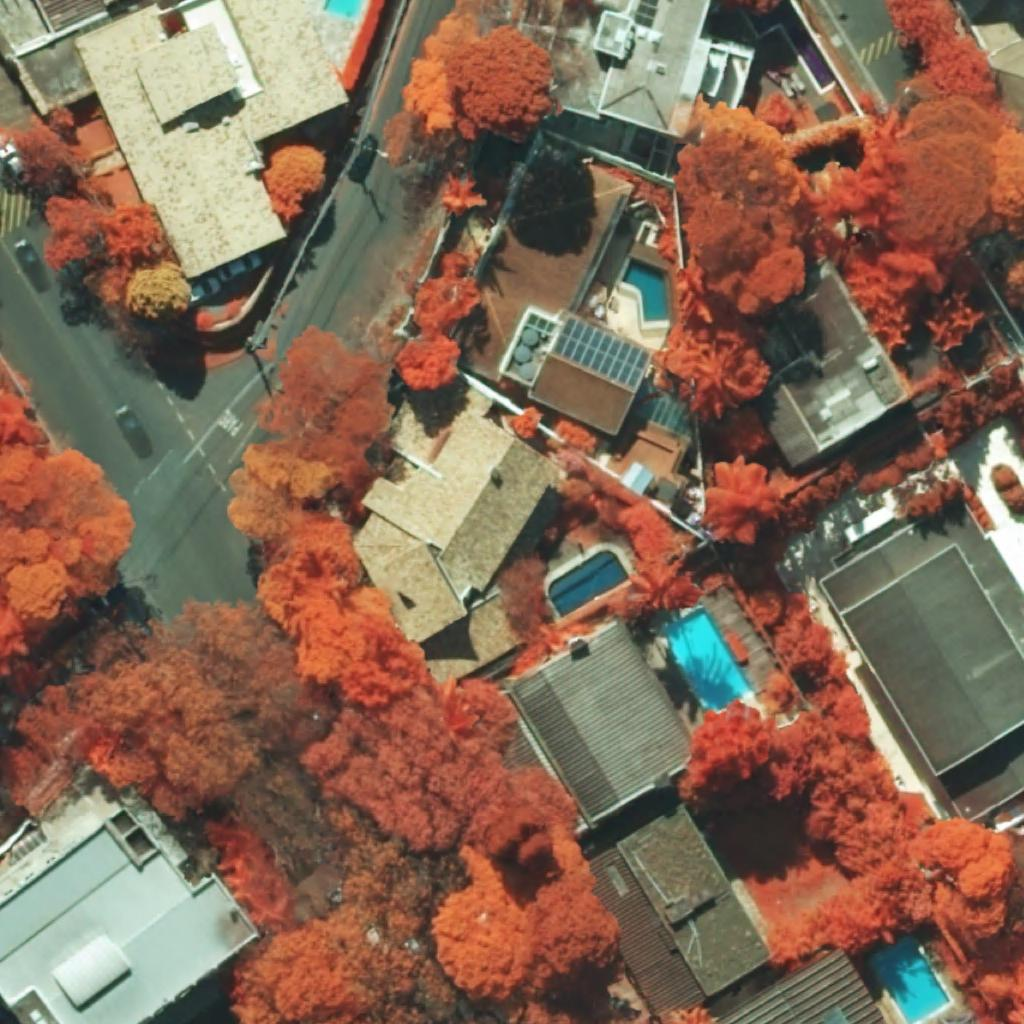pool: (663, 607, 752, 712), (867, 938, 950, 1024), (548, 550, 630, 617), (622, 260, 668, 321), (324, 0, 364, 19)
